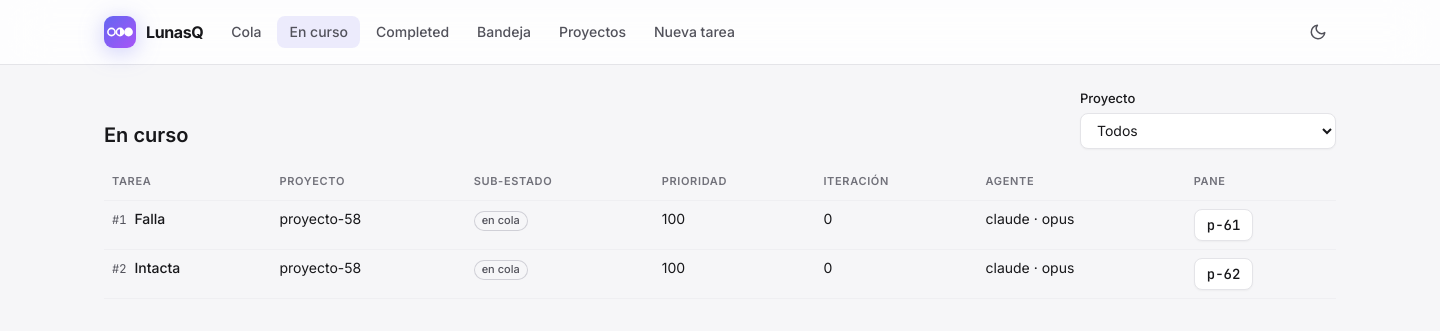
Scenario: pestaña En curso › columnas Iteración, Agente y Pane › si el foco falla muestra el error junto a ese pane sin tocar las demás filas
Check: the link "Falla" is shown, box [134, 209, 165, 229]
Click the button "p-61" at [1224, 225], box [1194, 209, 1253, 241]
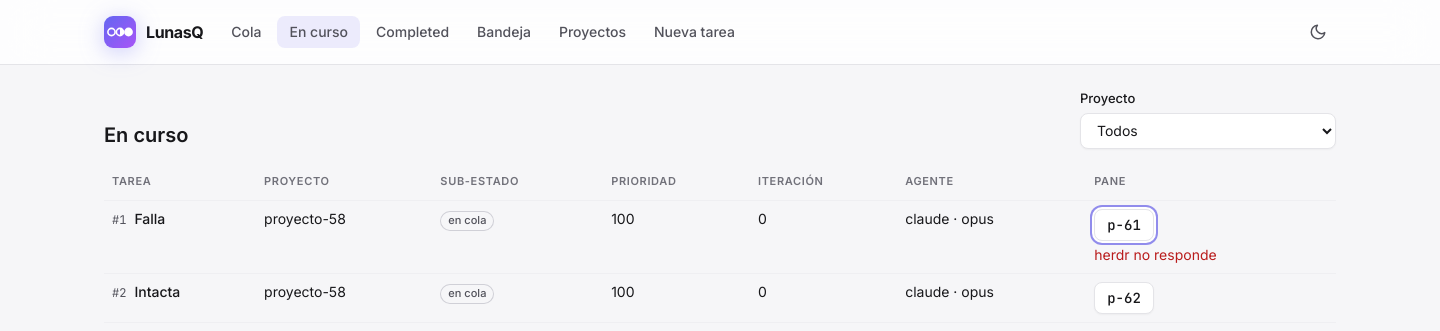
Check: the message reads "herdr no responde", box [1094, 246, 1217, 263]
